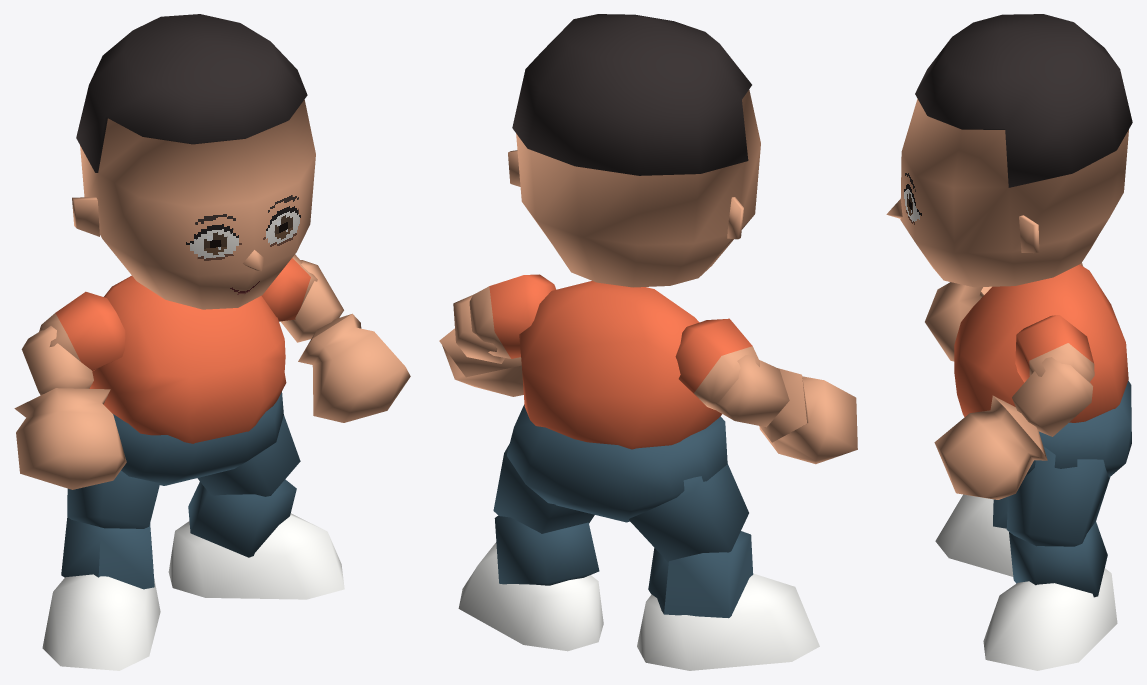
The picture shows the model from 3 angles, left to right: view 1: azimuth 30°, elevation 25°; view 2: azimuth 150°, elevation 25°; view 3: azimuth 270°, elevation 25°; orthographic projection. The views are drawn at different scales.
Visible parts, largest first — view 1: Character; view 2: Character; view 3: Character.
Boxes of the visible parts, left/top/right/bottom form: Character: left=14, top=14, right=410, bottom=670; Character: left=439, top=14, right=857, bottom=670; Character: left=886, top=14, right=1132, bottom=670.
Bounding box in the file's own units: 1.98 × 2.78 × 1.09.
9 materials, 2 textured.
